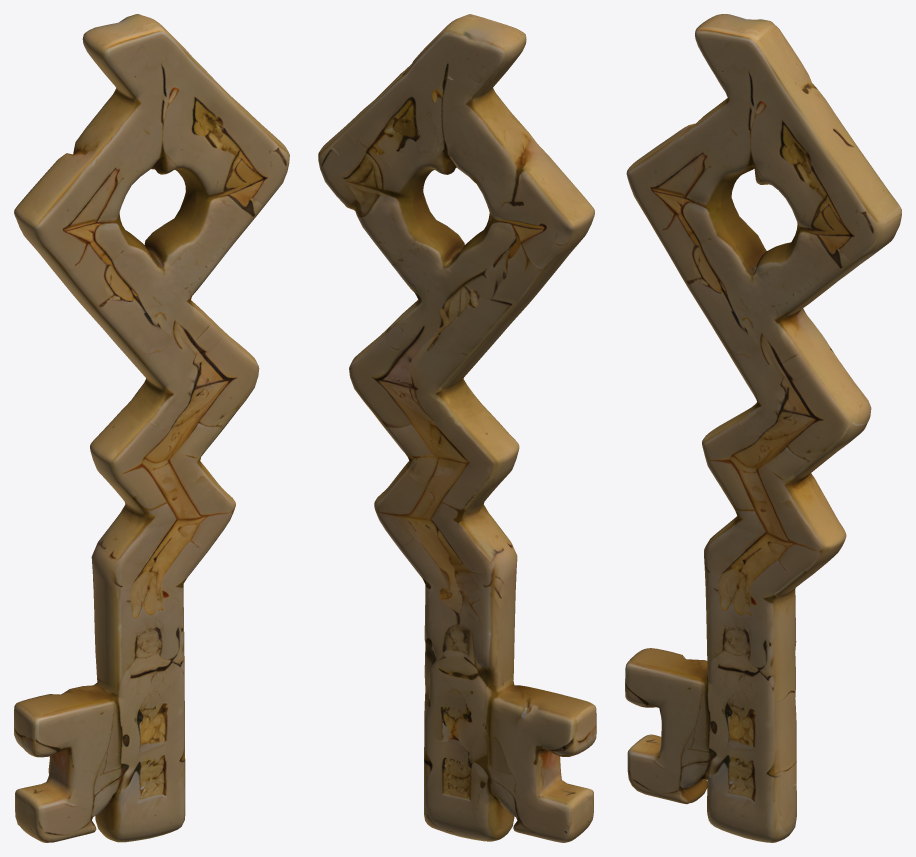
The model's file is ornate+key+3d+model.obj.
The picture shows the model from 3 angles, left to right: view 1: azimuth 30°, elevation 25°; view 2: azimuth 150°, elevation 25°; view 3: azimuth 330°, elevation 25°; orthographic projection.
Parts seen in each view (by area): view 1: tripo_node_873d0c71; view 2: tripo_node_873d0c71; view 3: tripo_node_873d0c71.
Part boxes in pixels (box(x1,y1,x2,y2)): tripo_node_873d0c71: box(14, 14, 289, 842); tripo_node_873d0c71: box(318, 14, 596, 842); tripo_node_873d0c71: box(625, 14, 901, 842).
Size of the model in its own units: 33.64 by 99.97 by 5.53.
Materials: 1 (1 with a texture image).
